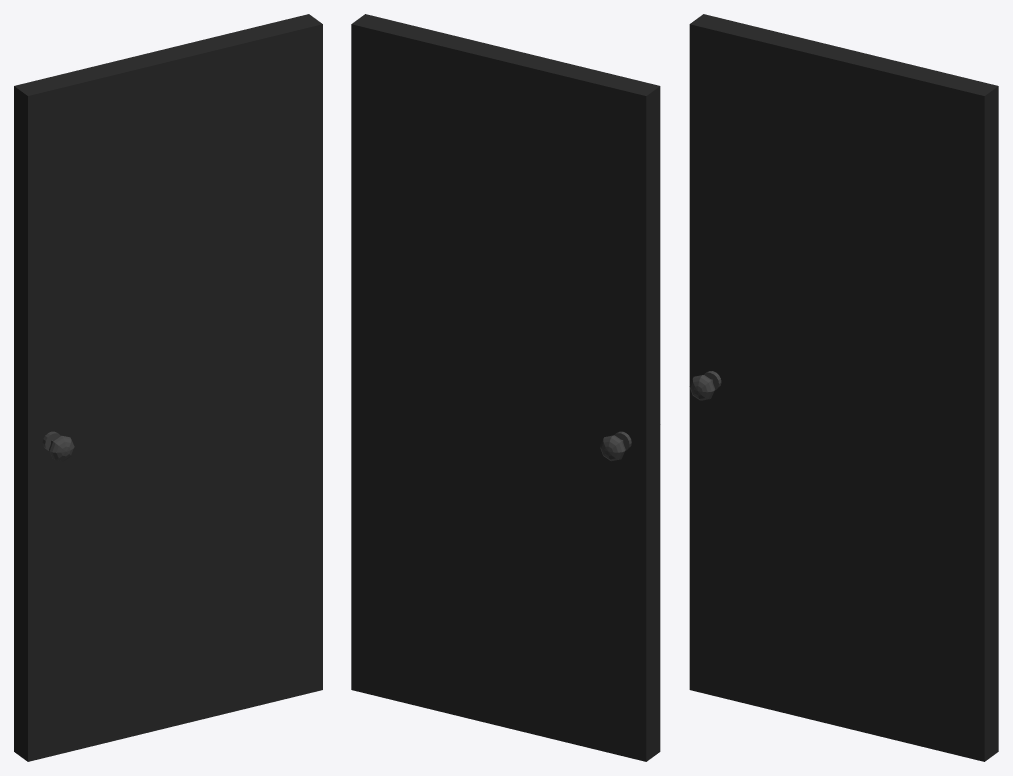
File: Door_01_R.fbx
3 views of the same model, side by side, from view 1: azimuth 30°, elevation 25°; view 2: azimuth 150°, elevation 25°; view 3: azimuth 330°, elevation 25° (orthographic).
Visible parts, largest first — view 1: Door_01_R; view 2: Door_01_R; view 3: Door_01_R.
Boxes of the visible parts, x1=… form: Door_01_R: x1=14, y1=14, x2=322, y2=761; Door_01_R: x1=351, y1=14, x2=660, y2=761; Door_01_R: x1=689, y1=14, x2=998, y2=761.
Size of the model in its own units: 98.87 by 213 by 25.41.
